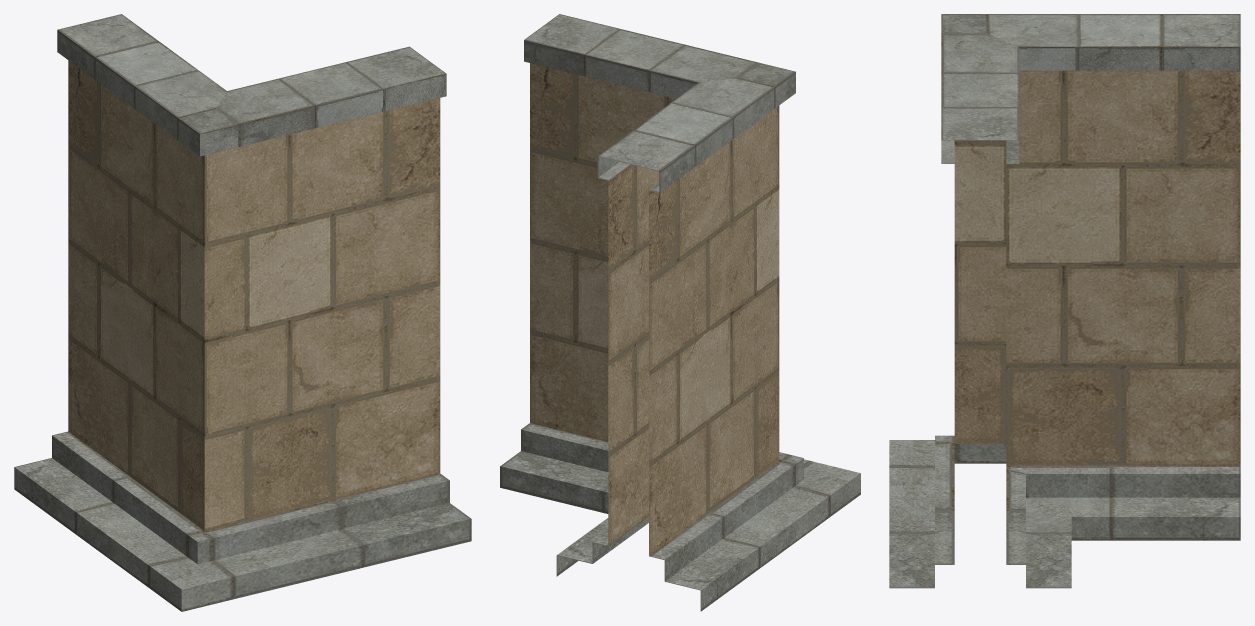
File: wall_crn_full.fbx
3 renders of one model, left to right at view 1: azimuth 30°, elevation 25°; view 2: azimuth 150°, elevation 25°; view 3: azimuth 270°, elevation 25°, orthographic. The views are drawn at different scales.
Parts seen in each view (by area): view 1: wall_crn_full; view 2: wall_crn_full; view 3: wall_crn_full.
Part boxes in pixels (box(x1,y1,x2,y2)): wall_crn_full: box(14, 14, 471, 611); wall_crn_full: box(500, 14, 860, 611); wall_crn_full: box(889, 14, 1240, 588).
Bounding box in the file's own units: 135 × 200 × 135.
